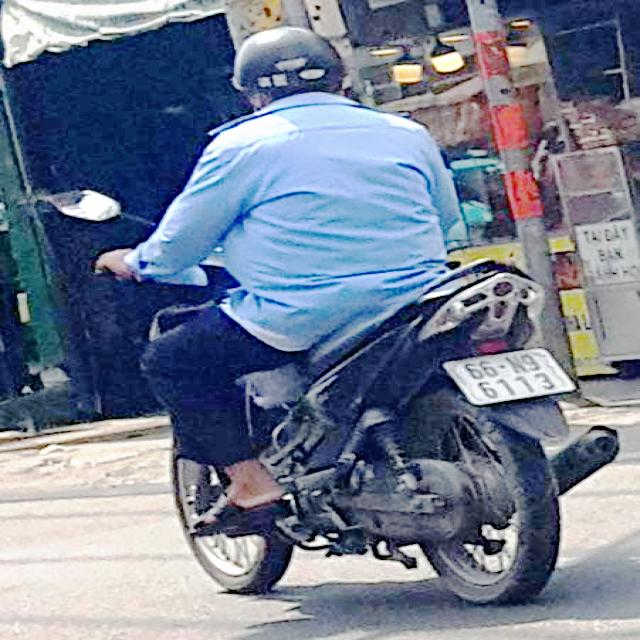license_plate: (446, 349, 573, 407)
